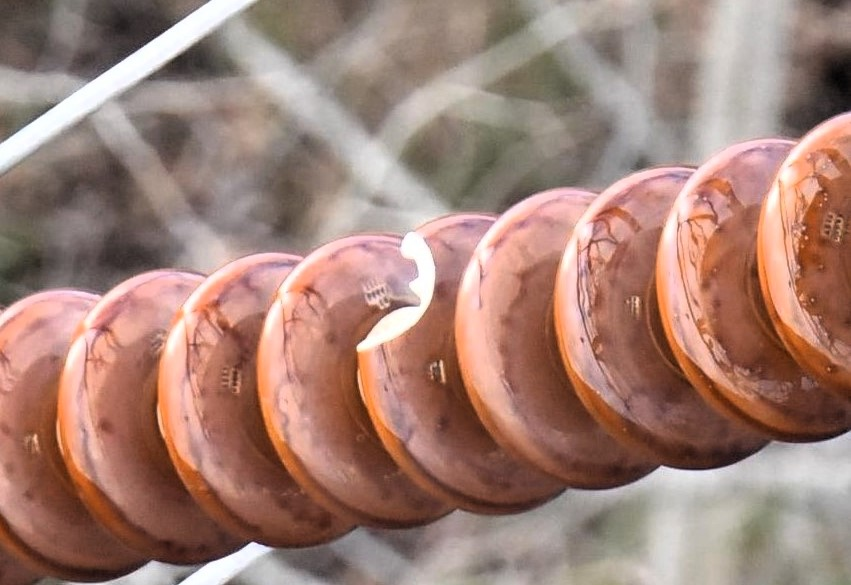insulator breakage: (350, 201, 508, 517)
